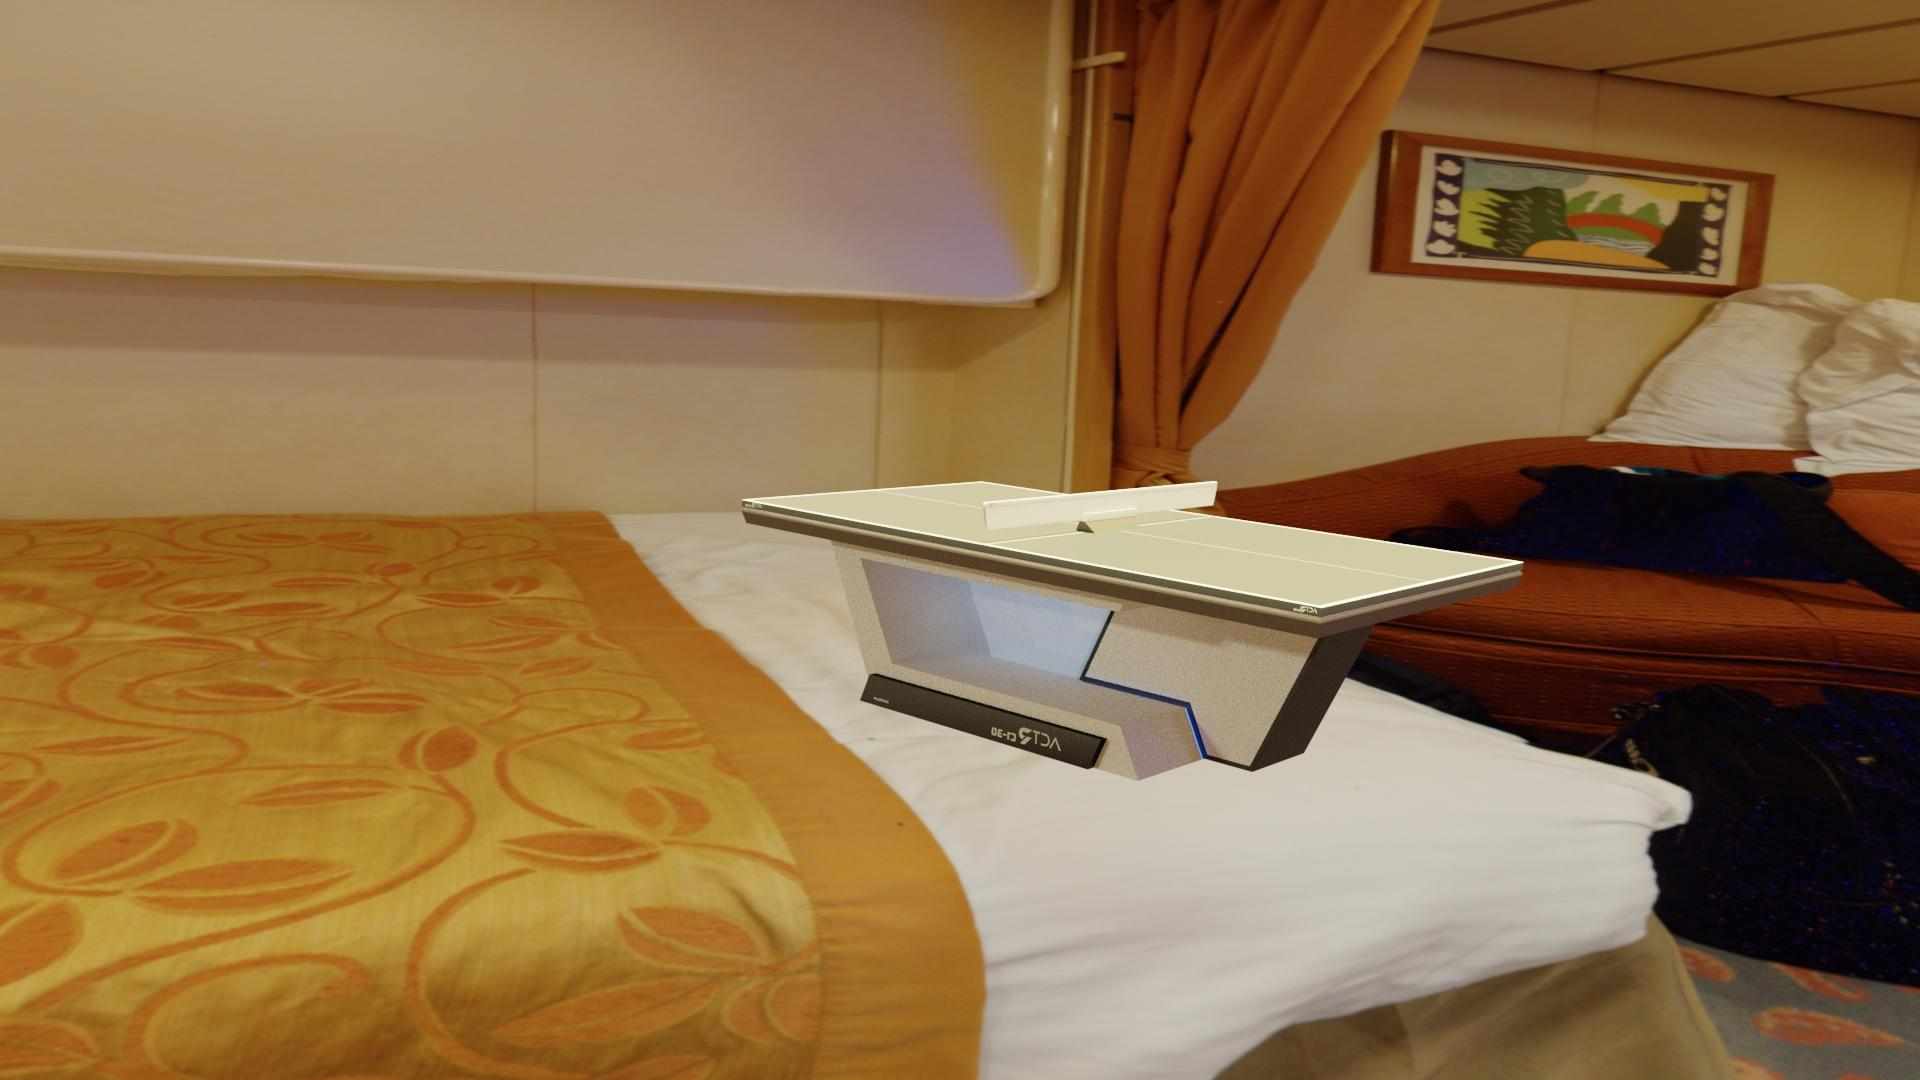table: (749, 483, 1516, 605)
